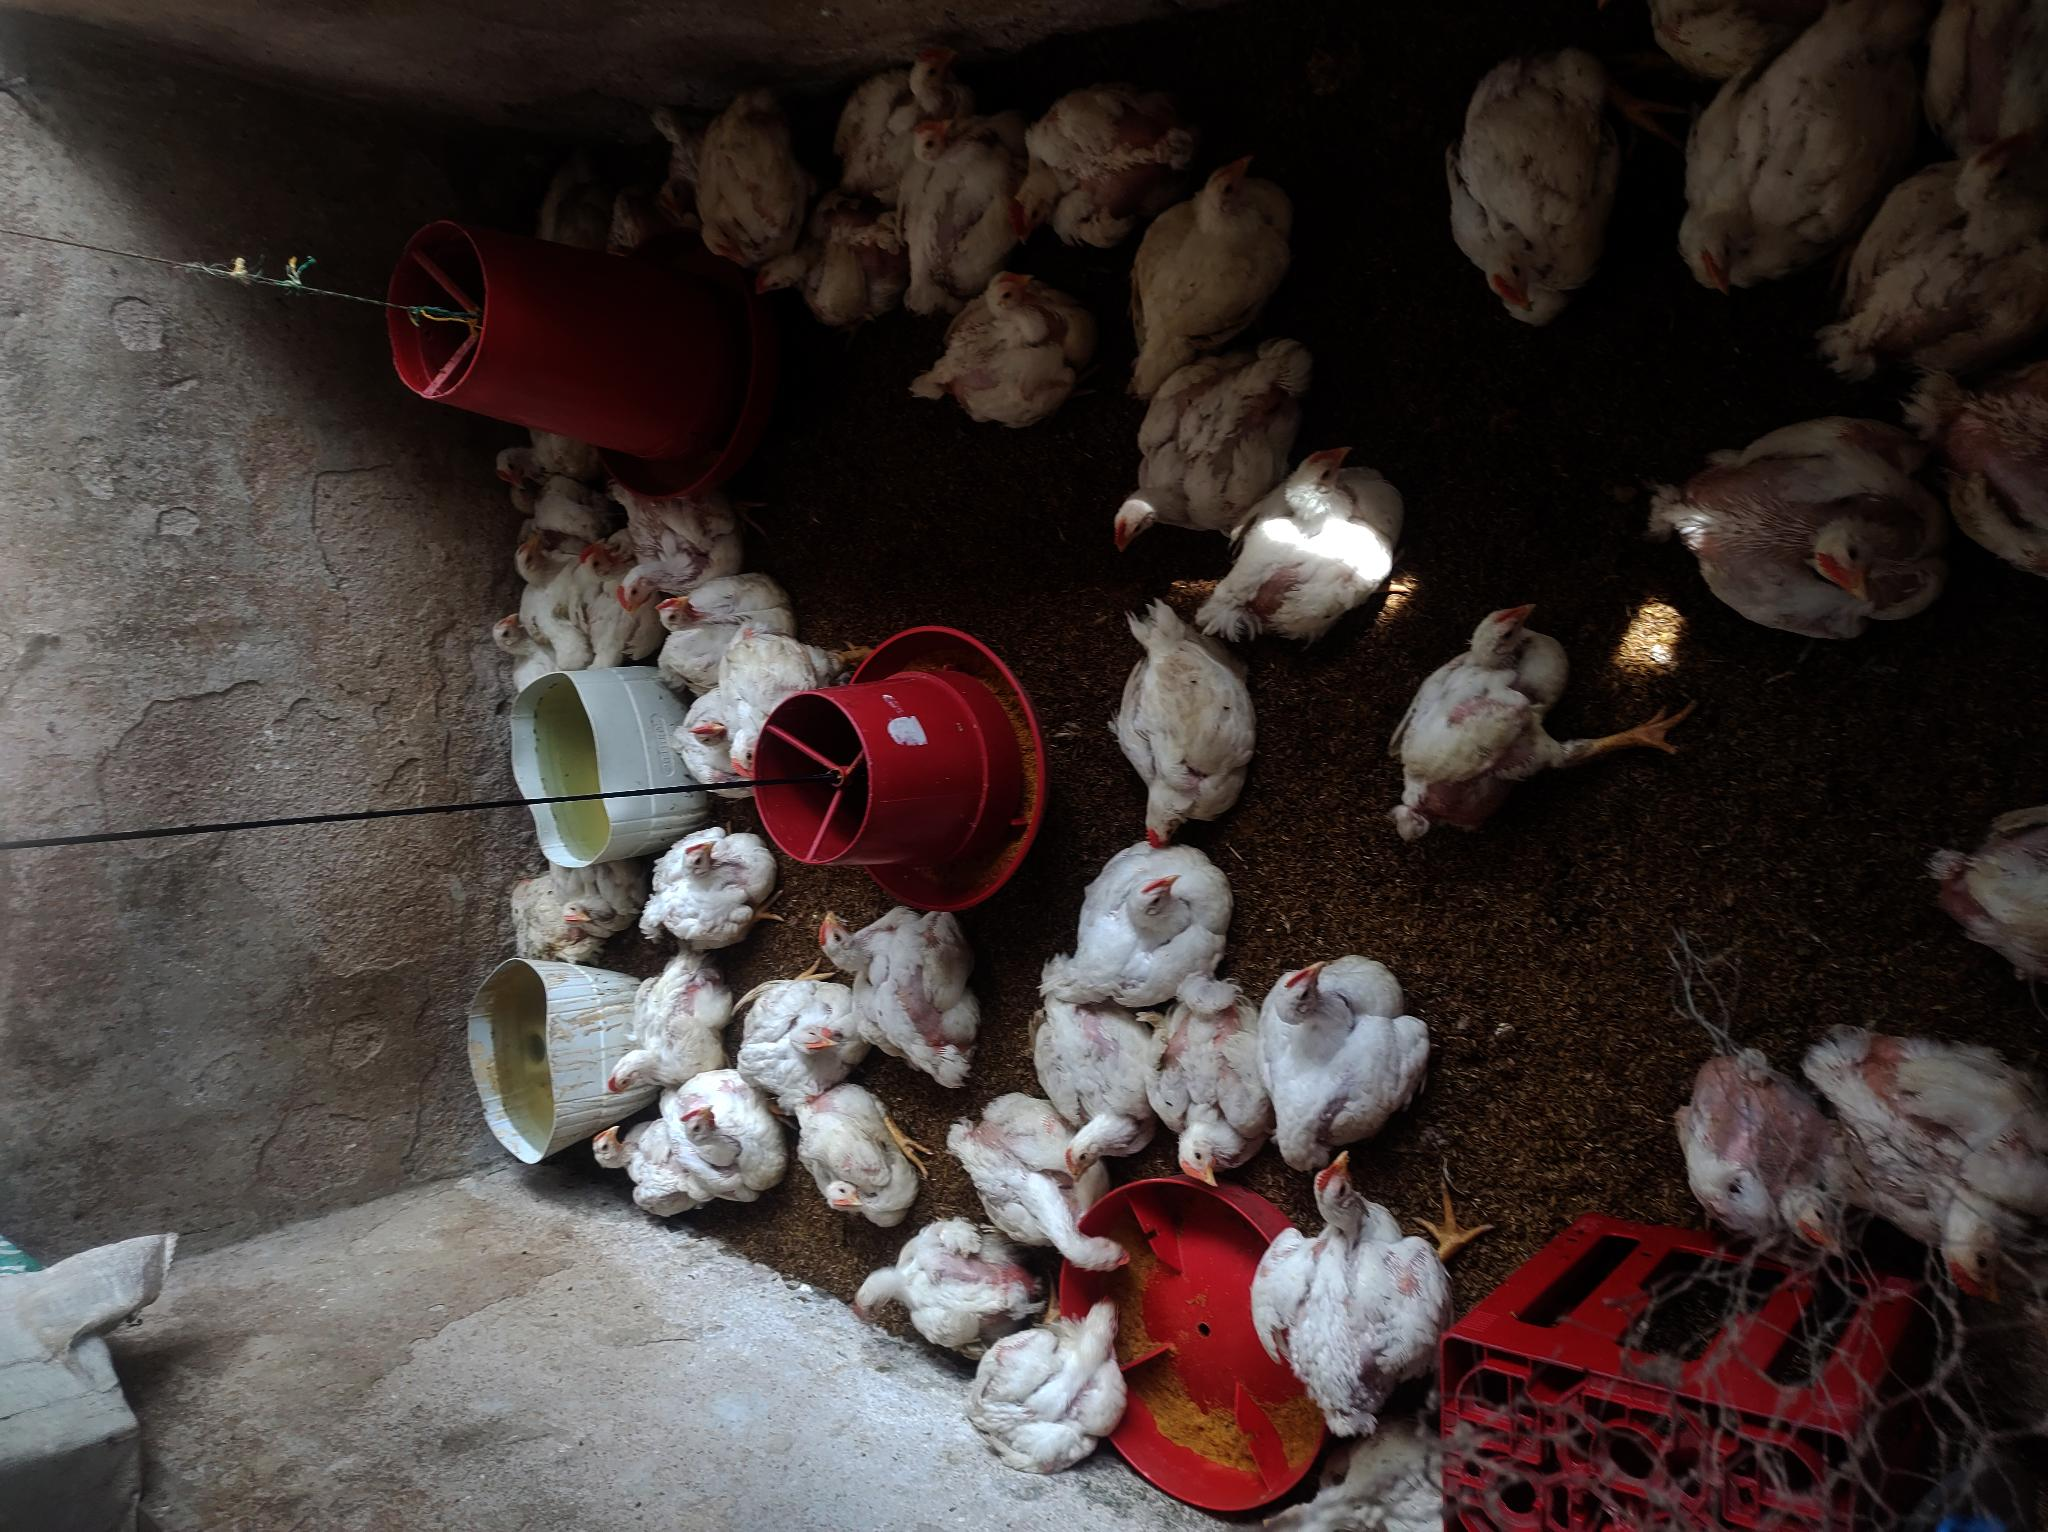Pollos: (1672, 0, 1918, 323), (1668, 402, 1948, 669), (1807, 1007, 2048, 1279), (1390, 591, 1639, 853), (1232, 1152, 1461, 1411), (1088, 340, 1343, 563), (1441, 13, 1612, 340), (1829, 138, 2029, 402), (1263, 937, 1478, 1167), (1125, 143, 1298, 393), (1662, 1044, 1850, 1270), (920, 1089, 1142, 1279), (806, 890, 1014, 1081), (1242, 438, 1421, 655), (1063, 830, 1260, 998), (1112, 608, 1256, 834), (923, 269, 1105, 447), (1014, 71, 1186, 259), (973, 1310, 1142, 1501), (837, 1204, 1031, 1357), (1890, 380, 2048, 558), (1142, 982, 1279, 1186), (893, 121, 1054, 290), (695, 74, 819, 286), (829, 27, 973, 208), (661, 665, 833, 816), (1934, 785, 2048, 1007), (634, 813, 775, 970), (1014, 1011, 1168, 1149), (621, 454, 738, 628), (1921, 0, 2048, 154), (597, 954, 726, 1106), (769, 1075, 915, 1205), (732, 970, 866, 1109), (769, 191, 899, 333), (652, 1081, 782, 1213), (483, 840, 607, 978), (544, 114, 640, 291), (644, 586, 806, 665), (587, 1125, 698, 1220), (467, 586, 553, 674), (574, 517, 648, 595), (504, 447, 547, 513), (500, 549, 544, 586)
